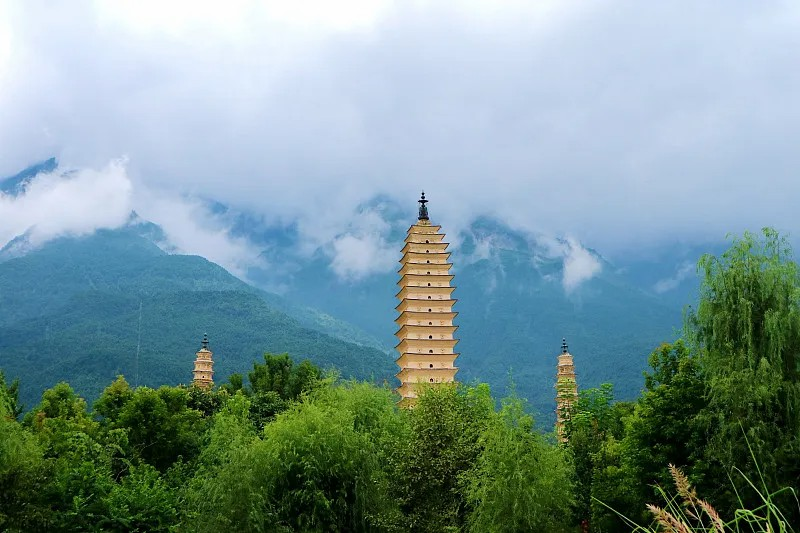ThreePagoda: (394, 190, 461, 411)
